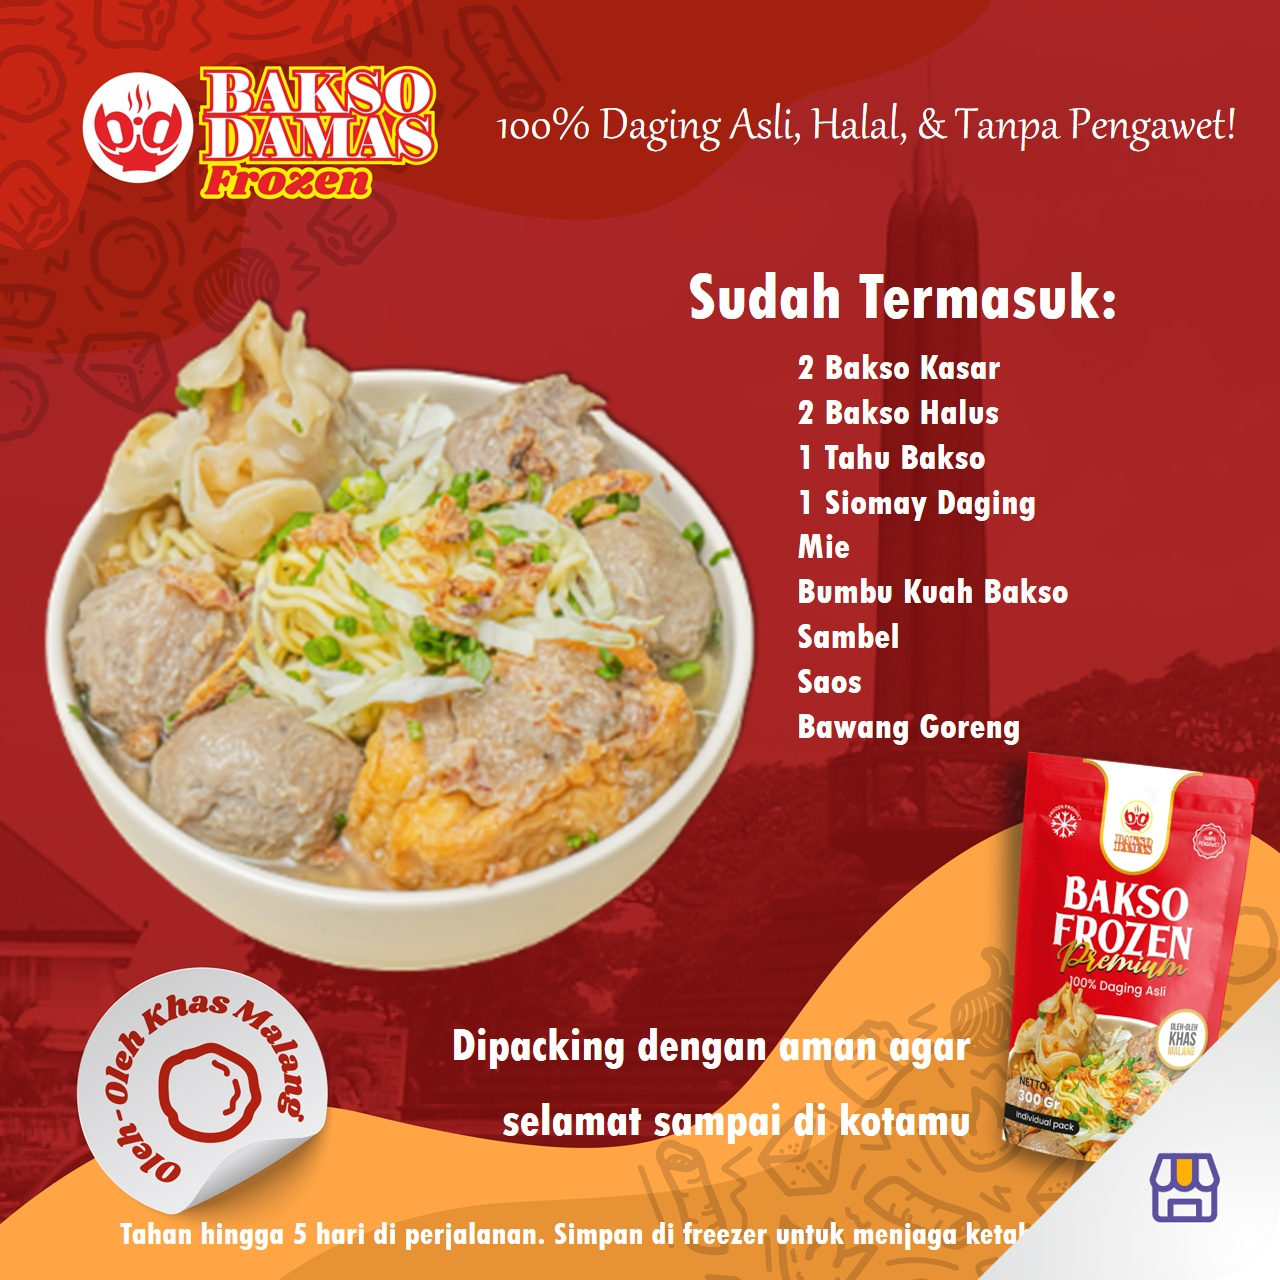bakso_malang: (66, 301, 723, 890)
